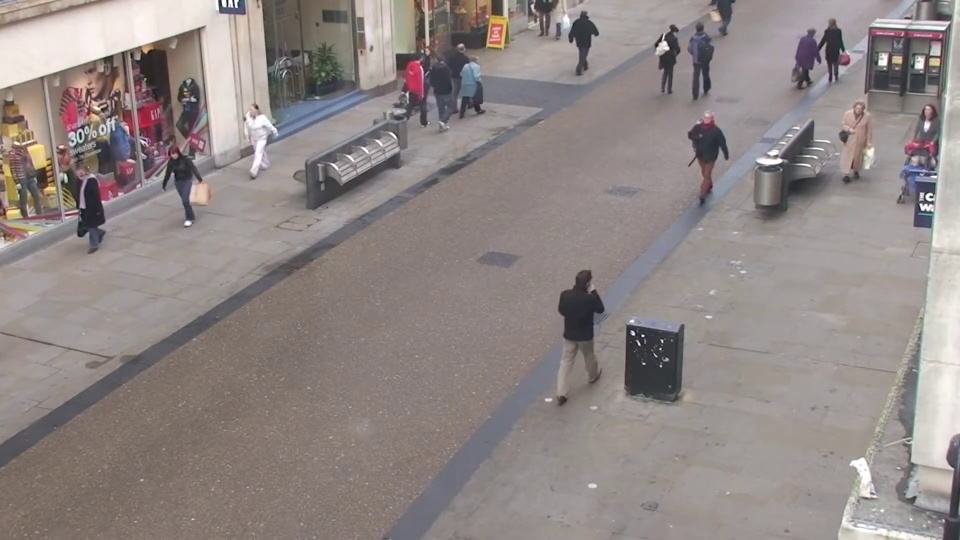pedestrian: (573, 253, 615, 386), (59, 161, 108, 267), (886, 153, 934, 261), (899, 101, 944, 197), (153, 147, 195, 248), (834, 99, 872, 192), (234, 100, 269, 189), (688, 109, 720, 203), (813, 15, 843, 87), (798, 23, 827, 96), (433, 48, 460, 125), (466, 48, 493, 124), (410, 46, 437, 122), (411, 47, 438, 123), (455, 39, 481, 113), (689, 18, 714, 88), (664, 20, 689, 90), (576, 3, 598, 67)
